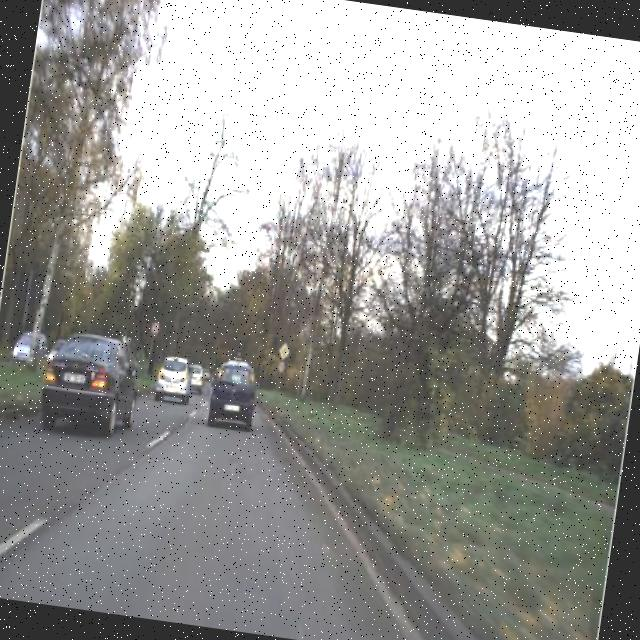Ograniczenie predkosci do 70: (148, 318, 163, 340), (275, 359, 288, 376)
